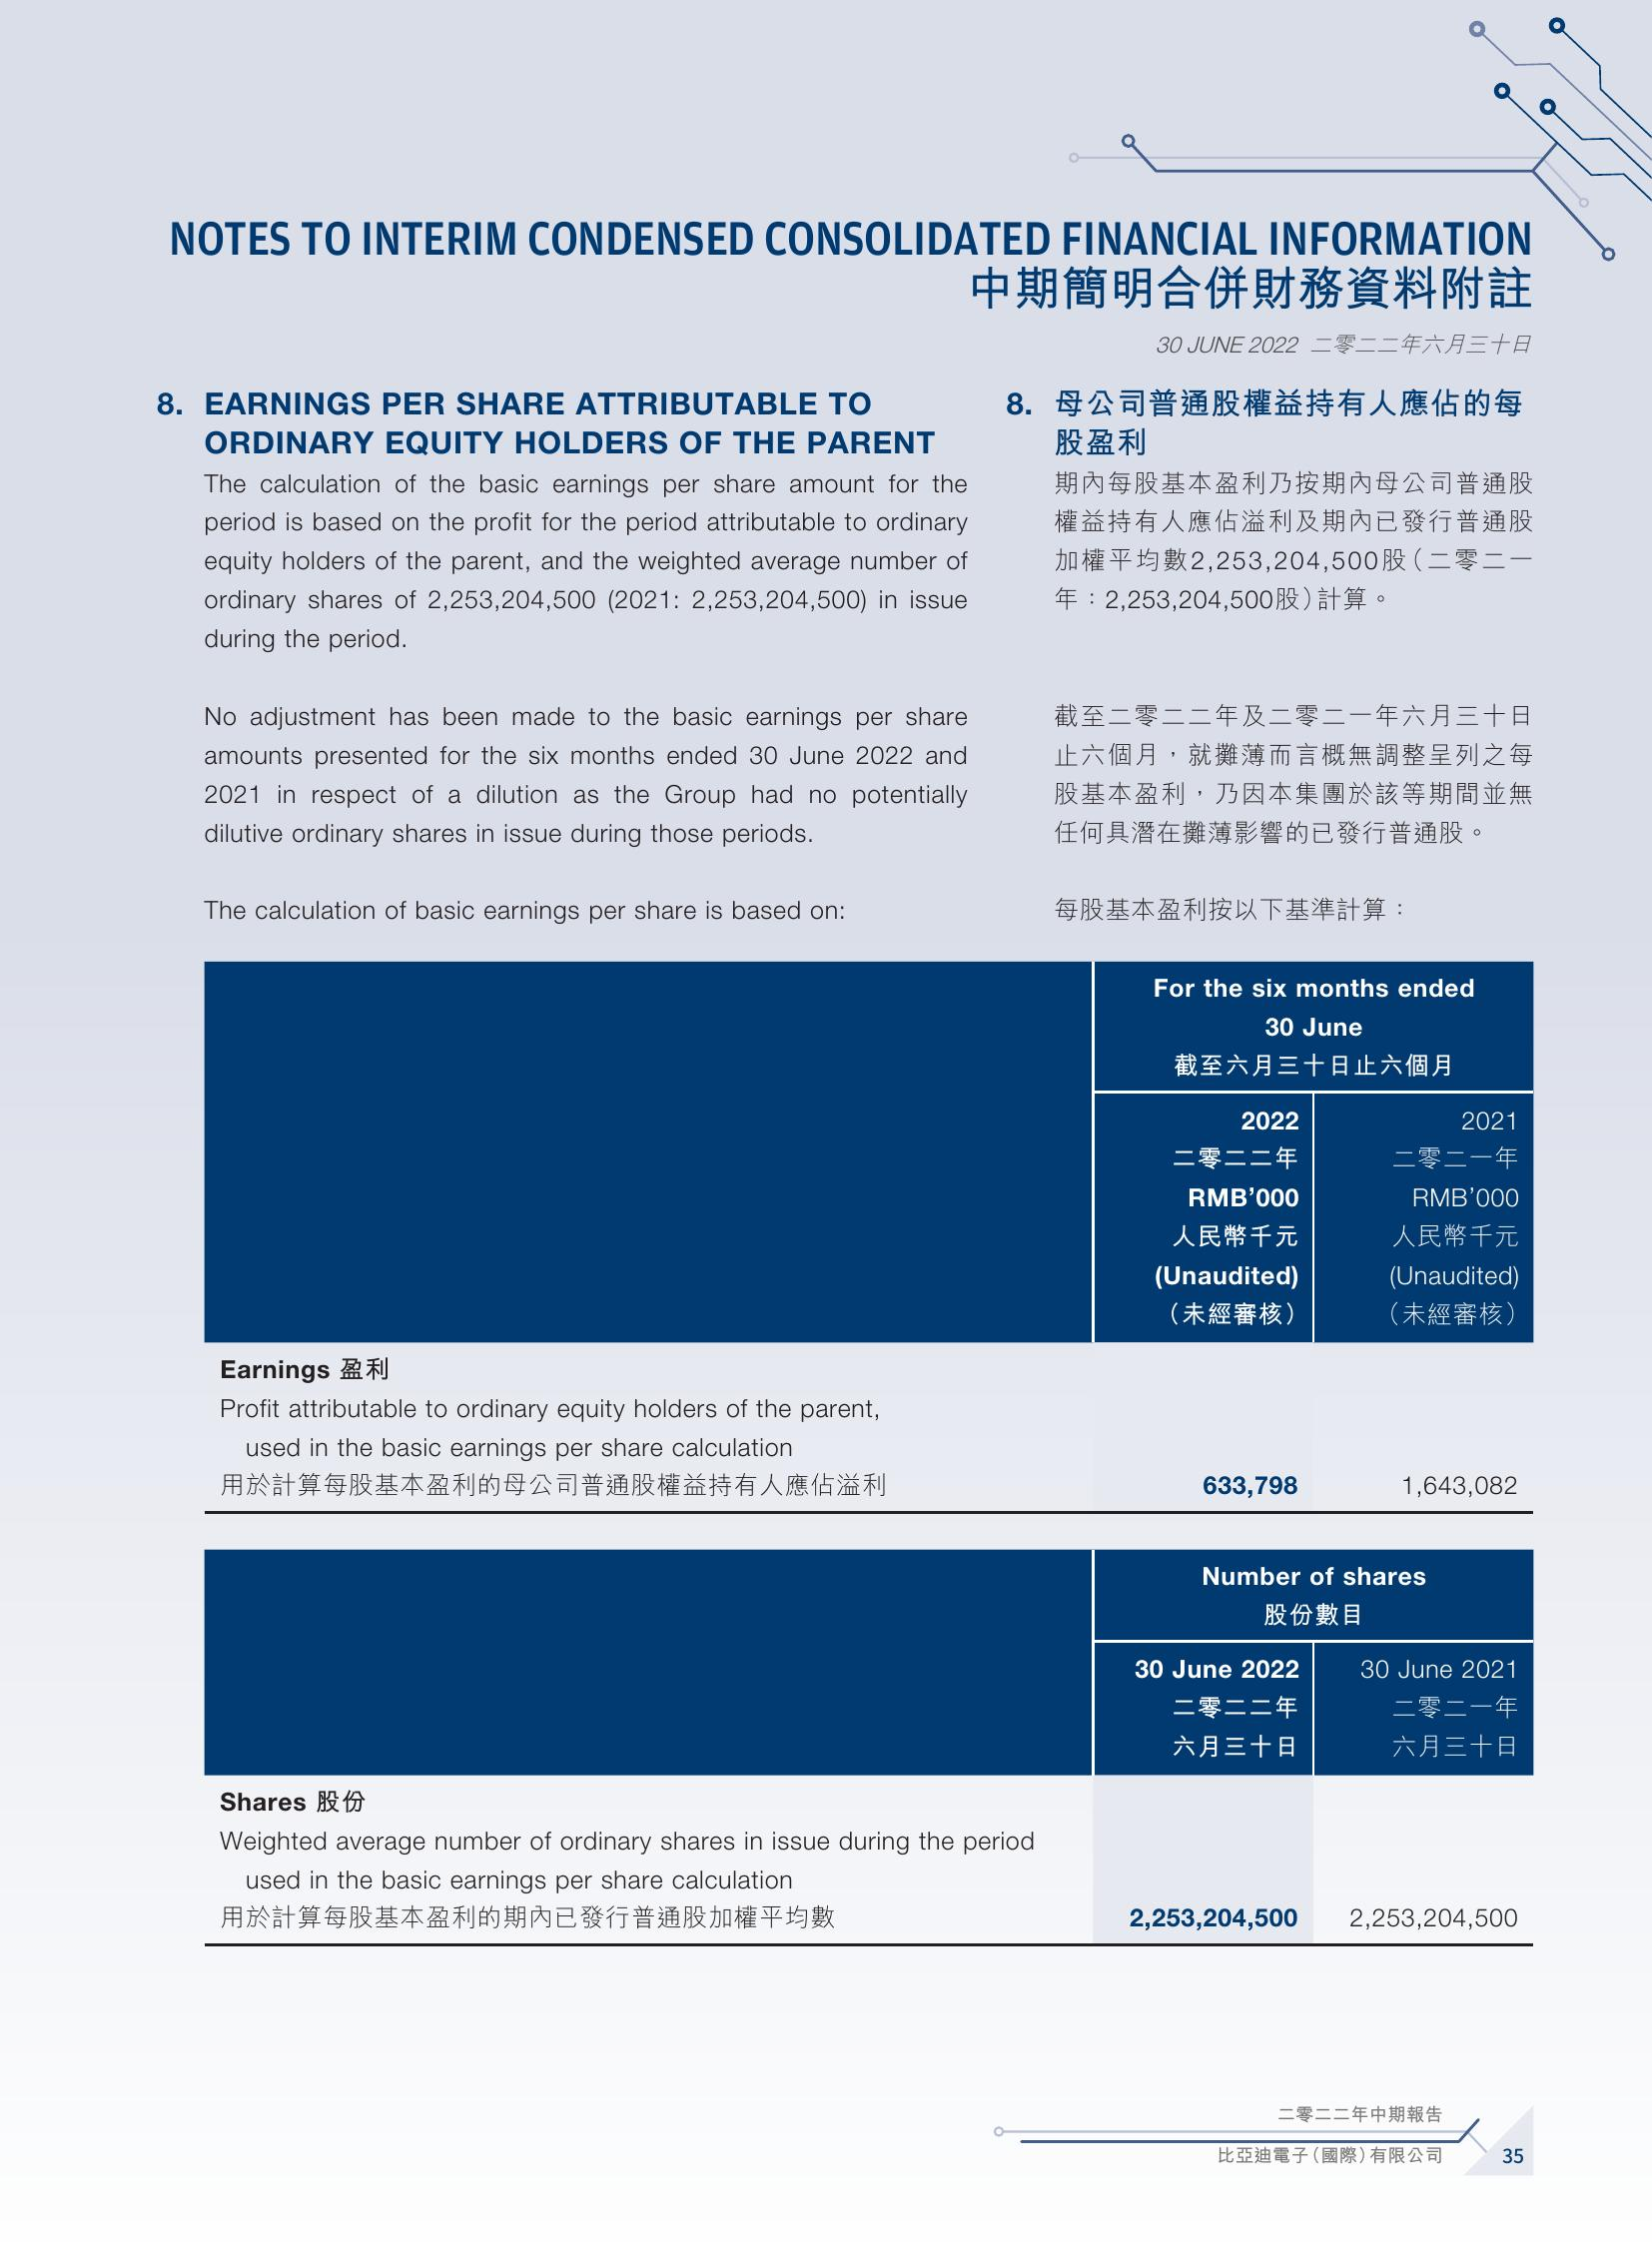Footer: (0, 2089, 1652, 2242)
Header: (0, 0, 1652, 188)
Table: (171, 931, 1574, 1516), (157, 1553, 1548, 1941)
